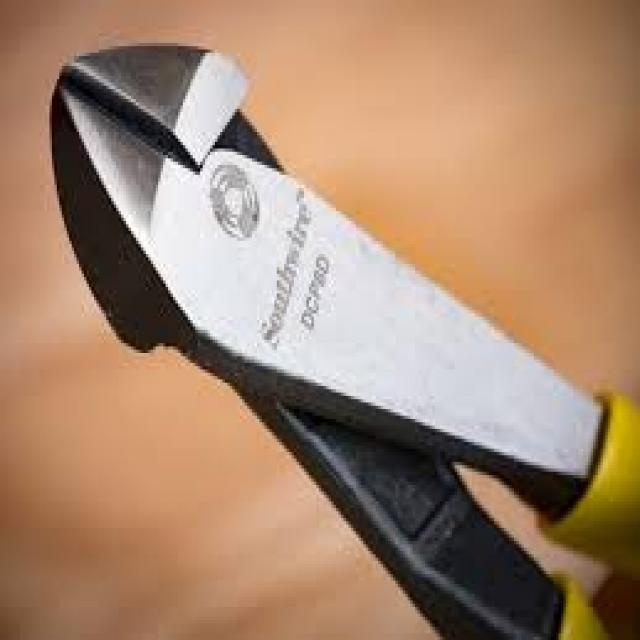pliers: (36, 26, 600, 634)
